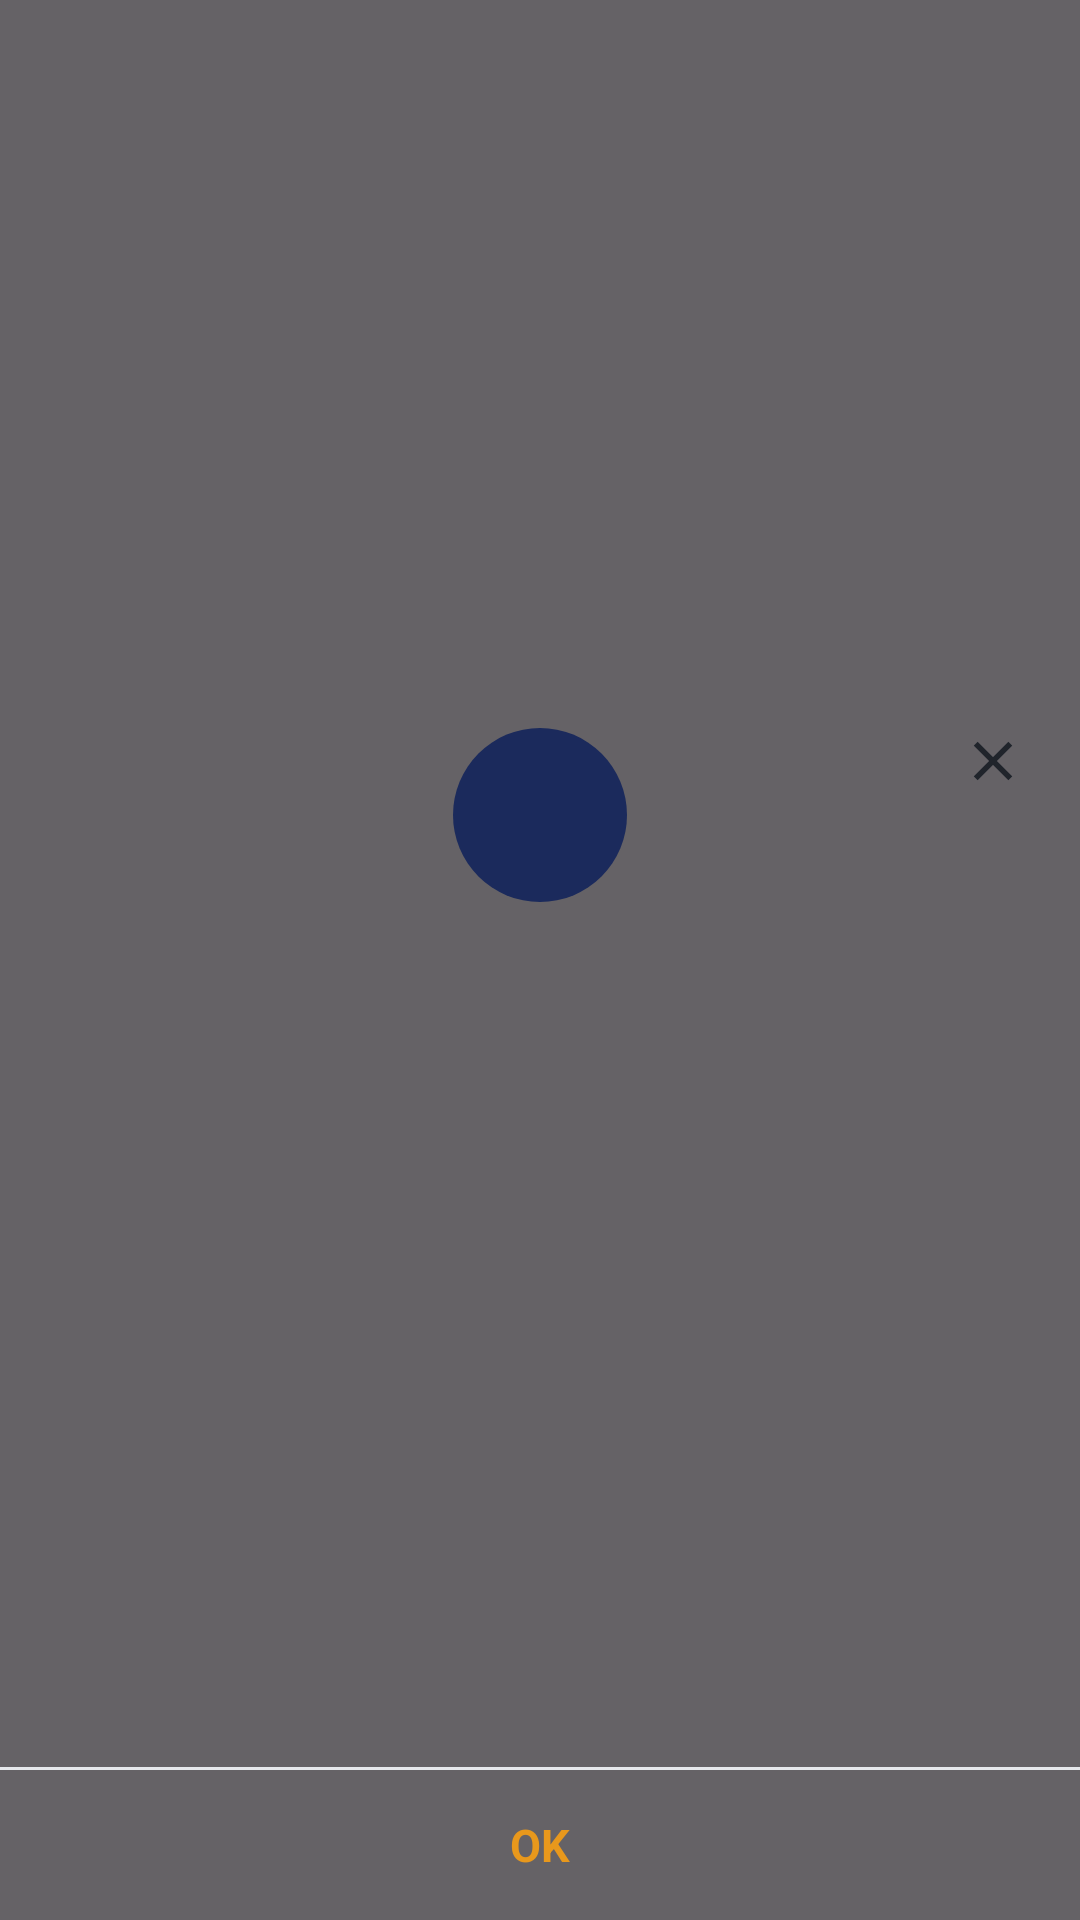

Icon click points for this 1080 × 1920 phone screenshot, format [x,y]:
Close: [993,761]
